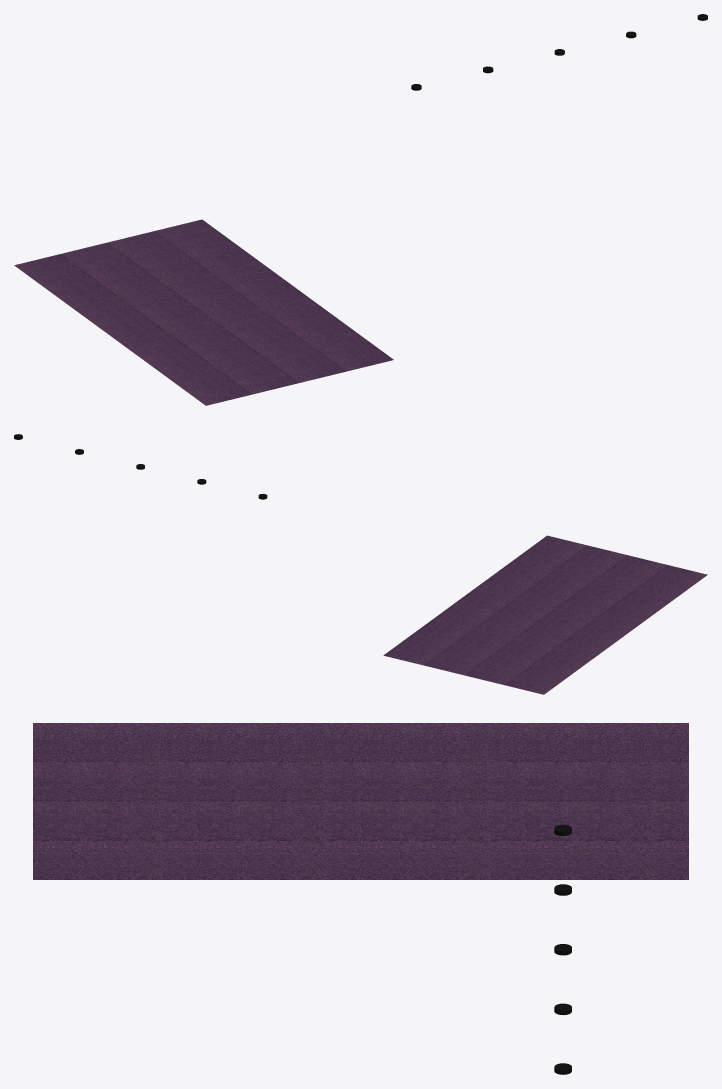
Rendered from SrchetyLightRowAndOneCarpetSection.fbx.
3 renders of one model, top to bottom at view 1: azimuth 30°, elevation 25°; view 2: azimuth 150°, elevation 25°; view 3: azimuth 270°, elevation 25°, orthographic. The views are drawn at different scales.
Parts seen in each view (by area): view 1: Plane001; view 2: Plane001; view 3: Plane001, CircleLight002.
Boxes of the visible parts, x1,y1,x2,y2 form: Plane001: (14, 219, 393, 405); Plane001: (383, 535, 707, 694); Plane001: (33, 723, 688, 879); CircleLight002: (554, 824, 571, 1074).
Size of the model in its own units: 1535 by 261 by 778.
4 materials, 1 textured.
